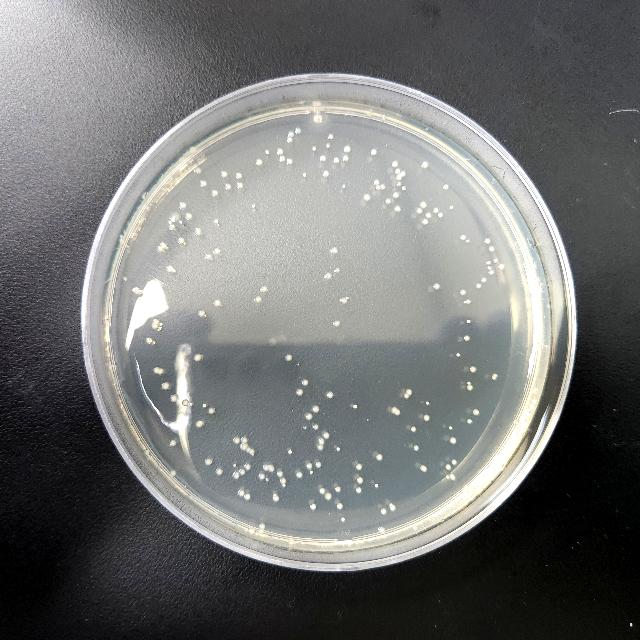colony: (170, 212, 182, 222), (132, 286, 142, 296), (310, 100, 322, 108), (213, 298, 221, 308), (166, 264, 174, 274), (232, 470, 240, 480), (323, 272, 332, 280), (194, 227, 202, 236), (305, 412, 313, 421), (170, 393, 178, 402), (331, 247, 339, 255), (276, 147, 284, 155), (294, 126, 302, 134), (236, 182, 244, 190), (220, 170, 228, 178), (194, 167, 202, 175), (185, 212, 193, 220), (179, 202, 187, 210), (198, 310, 206, 318), (254, 295, 262, 303), (189, 146, 197, 154), (421, 160, 429, 168), (498, 262, 506, 270), (466, 384, 474, 392), (326, 390, 334, 398), (295, 388, 303, 396), (312, 405, 320, 413), (322, 431, 330, 439), (316, 443, 324, 451), (194, 354, 202, 362), (240, 443, 248, 451), (420, 464, 428, 472), (160, 242, 168, 250), (145, 337, 153, 345), (215, 467, 223, 475), (244, 462, 252, 470), (244, 493, 252, 501), (324, 492, 332, 500), (378, 526, 386, 534), (462, 486, 470, 494), (334, 320, 341, 328), (286, 158, 294, 165), (255, 158, 262, 166), (235, 172, 242, 180), (224, 183, 232, 190), (200, 180, 208, 187), (213, 248, 221, 255), (178, 236, 185, 244), (434, 282, 441, 290), (375, 454, 383, 461), (394, 409, 402, 416), (157, 245, 165, 252), (170, 439, 177, 447), (205, 457, 212, 465), (152, 322, 158, 331), (162, 382, 168, 391), (268, 463, 274, 472), (170, 469, 177, 476), (334, 268, 342, 274), (370, 150, 378, 156), (363, 194, 371, 200), (342, 155, 350, 161), (333, 156, 339, 164), (320, 154, 326, 162), (286, 137, 294, 143), (288, 130, 294, 138), (204, 253, 212, 259), (168, 225, 176, 231), (260, 286, 268, 292), (392, 160, 398, 168), (395, 166, 401, 174), (420, 202, 428, 208), (426, 212, 432, 220), (460, 288, 466, 296), (488, 269, 496, 275), (464, 334, 470, 342), (406, 388, 412, 396), (302, 378, 308, 386), (286, 354, 292, 362), (312, 424, 320, 430), (318, 437, 324, 445), (357, 476, 363, 484), (356, 486, 362, 494), (307, 462, 313, 470), (296, 471, 302, 479), (195, 421, 203, 427), (234, 436, 240, 444), (240, 436, 248, 442), (391, 406, 397, 414), (424, 414, 430, 422), (473, 408, 479, 416), (449, 473, 455, 481), (239, 468, 245, 476), (277, 470, 283, 478), (263, 464, 269, 472), (259, 472, 265, 480), (272, 496, 280, 502), (335, 485, 341, 493), (390, 504, 396, 512), (532, 386, 538, 394), (288, 538, 294, 546), (381, 114, 387, 122), (546, 302, 552, 310), (380, 183, 386, 190), (344, 146, 351, 152), (386, 198, 392, 205), (416, 208, 422, 215), (484, 238, 490, 245), (356, 464, 362, 471), (238, 490, 245, 496), (310, 504, 316, 511), (379, 508, 386, 514), (323, 171, 329, 177), (328, 134, 334, 140), (280, 156, 286, 162), (212, 190, 218, 196), (214, 218, 220, 224), (393, 192, 399, 198), (395, 205, 401, 211), (422, 219, 428, 225), (460, 234, 466, 240), (481, 277, 487, 283), (489, 246, 495, 252), (492, 257, 498, 263), (470, 366, 476, 372), (404, 393, 410, 399), (316, 462, 322, 468), (202, 402, 208, 408), (182, 400, 188, 406), (209, 408, 215, 414), (249, 448, 255, 454), (450, 437, 456, 443), (154, 318, 160, 324), (153, 368, 159, 374), (158, 368, 164, 374), (248, 528, 254, 534), (258, 528, 264, 534), (280, 478, 286, 484), (319, 488, 325, 494), (336, 503, 342, 509), (516, 424, 522, 430), (340, 298, 348, 302), (446, 464, 450, 471), (374, 180, 380, 184), (376, 184, 380, 190), (312, 146, 316, 152), (168, 220, 172, 226), (444, 184, 448, 190), (438, 212, 442, 218), (433, 208, 439, 212), (467, 299, 471, 305), (476, 283, 480, 289), (486, 260, 490, 266), (456, 352, 460, 358), (352, 405, 358, 409), (304, 424, 308, 430), (374, 484, 380, 488), (412, 426, 416, 432), (414, 445, 418, 451), (468, 418, 472, 424), (452, 459, 456, 465), (171, 267, 175, 273), (259, 524, 265, 528), (446, 474, 449, 480), (342, 184, 346, 188), (303, 173, 307, 177), (326, 144, 330, 148), (265, 150, 269, 154), (251, 204, 255, 208), (124, 277, 128, 281), (402, 172, 406, 176), (397, 182, 401, 186), (402, 186, 406, 190), (450, 205, 454, 209), (466, 239, 470, 243), (467, 320, 471, 324), (494, 373, 498, 377), (492, 376, 496, 380), (425, 401, 429, 405), (336, 447, 340, 451), (288, 450, 292, 454), (310, 470, 314, 474), (246, 448, 250, 452), (282, 483, 286, 487), (265, 478, 269, 482), (341, 518, 345, 522), (389, 503, 393, 507), (119, 234, 123, 238), (515, 420, 519, 424), (414, 526, 418, 530), (346, 296, 349, 300), (464, 300, 466, 304), (488, 266, 490, 270), (468, 381, 470, 385), (190, 403, 192, 407), (450, 426, 452, 430), (274, 493, 276, 497), (180, 220, 182, 223), (252, 454, 254, 456), (386, 144, 388, 146), (234, 464, 236, 466)
